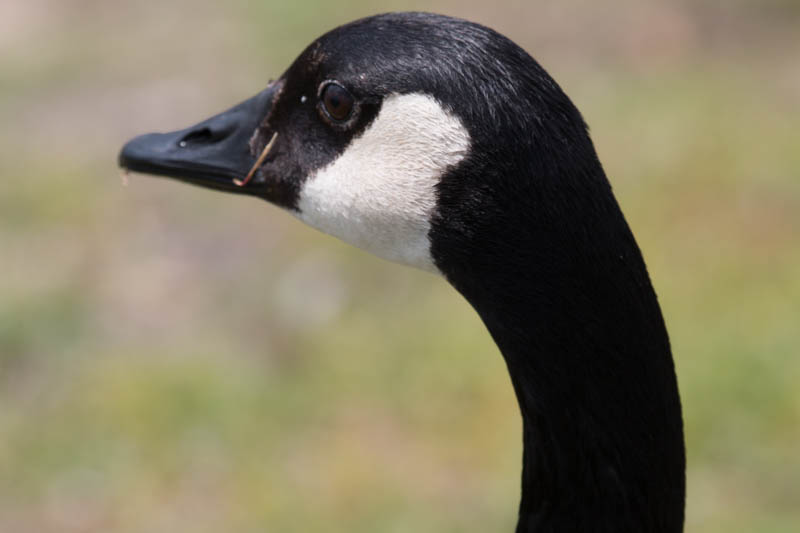goose-head: (116, 12, 594, 274)
